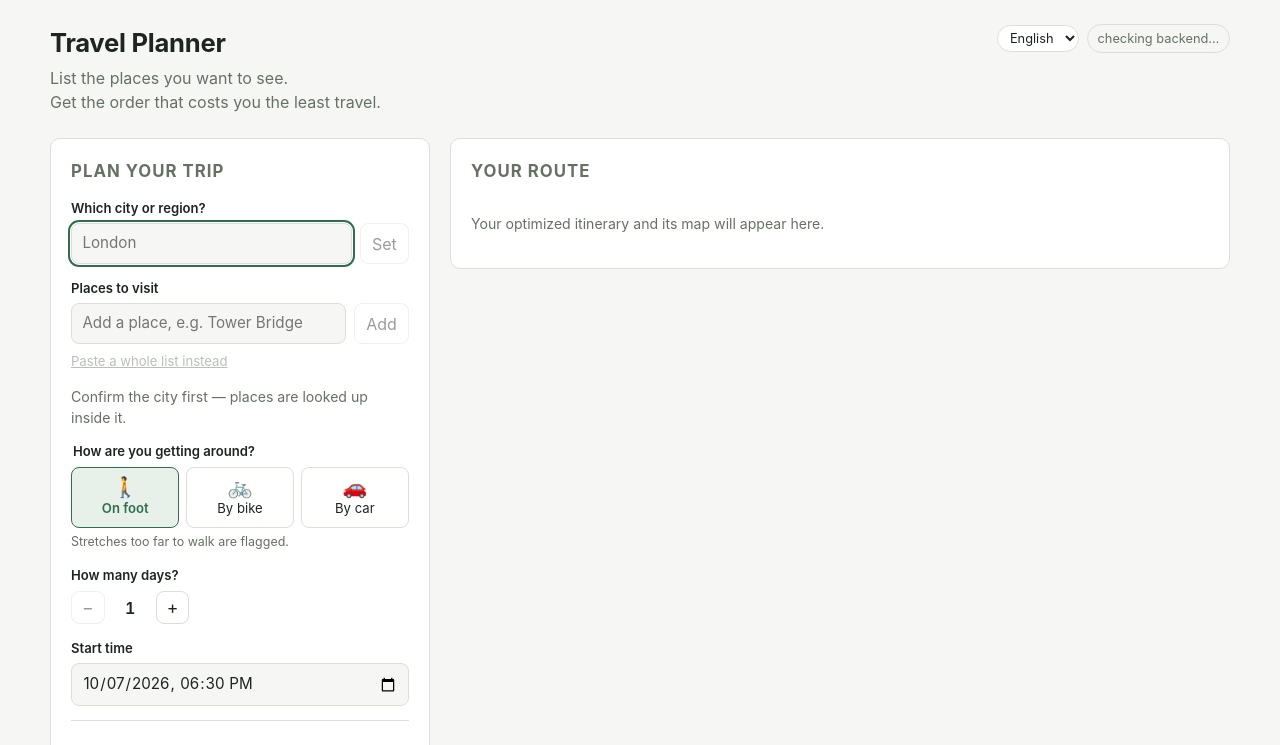
Test case: the batch dialog can be dismissed with Escape
Type "Roma" into the field with placeholder "London" at (211, 244), box [71, 224, 352, 264]
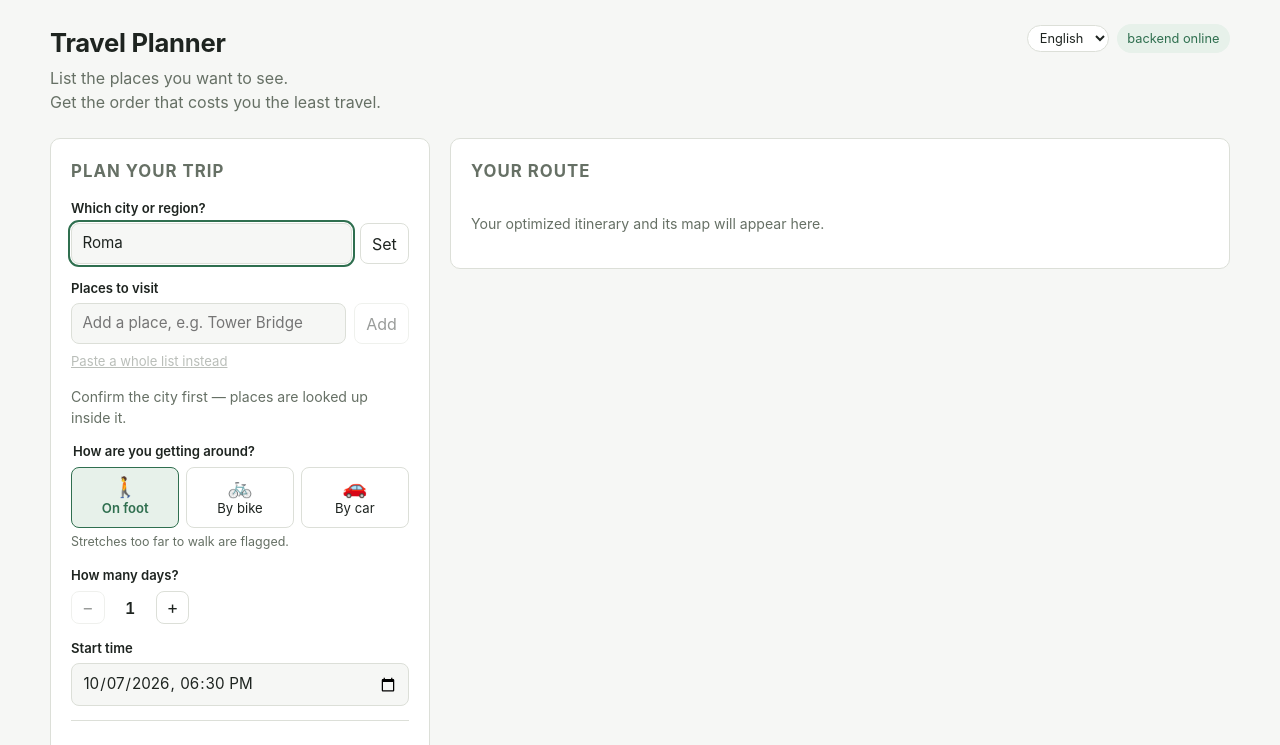
Click the button "Set" at (384, 244), box [360, 224, 409, 264]
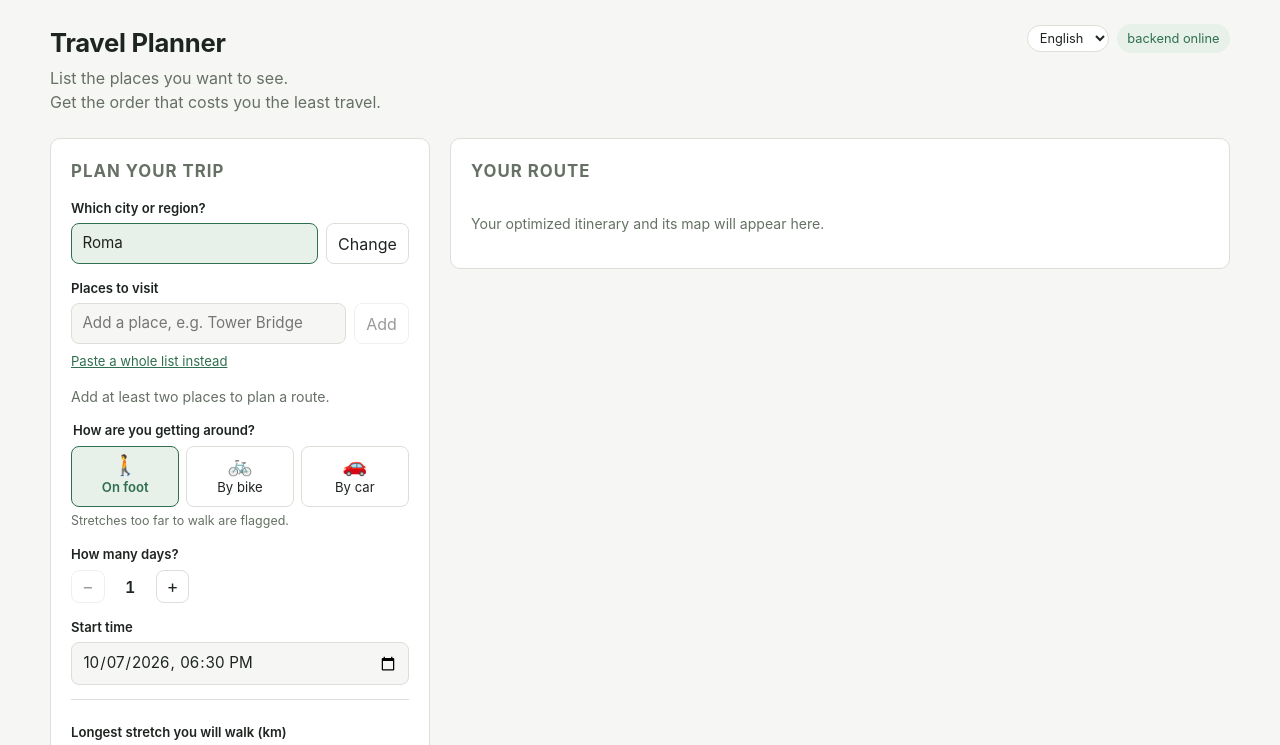
Click the button "Paste a whole list instead" at (149, 362), box [71, 352, 228, 372]
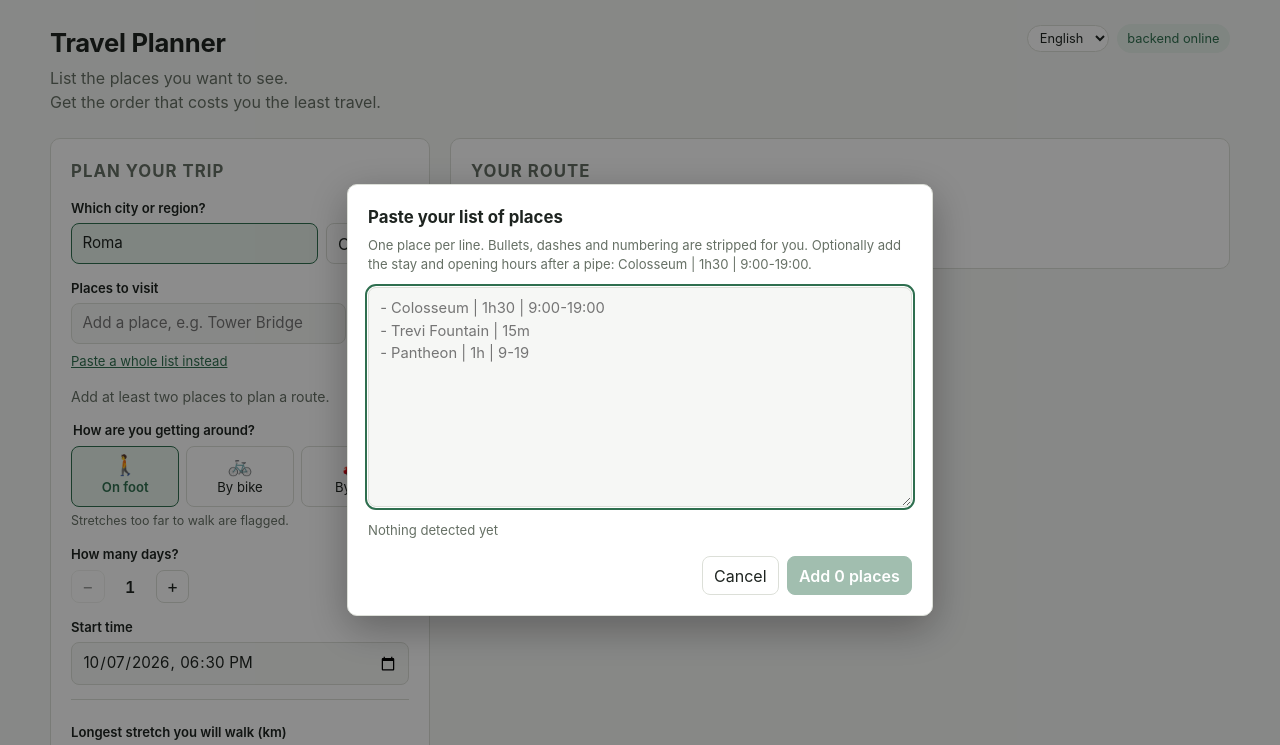
Expected: the dialog is shown, [347, 184, 933, 616]
Press Escape
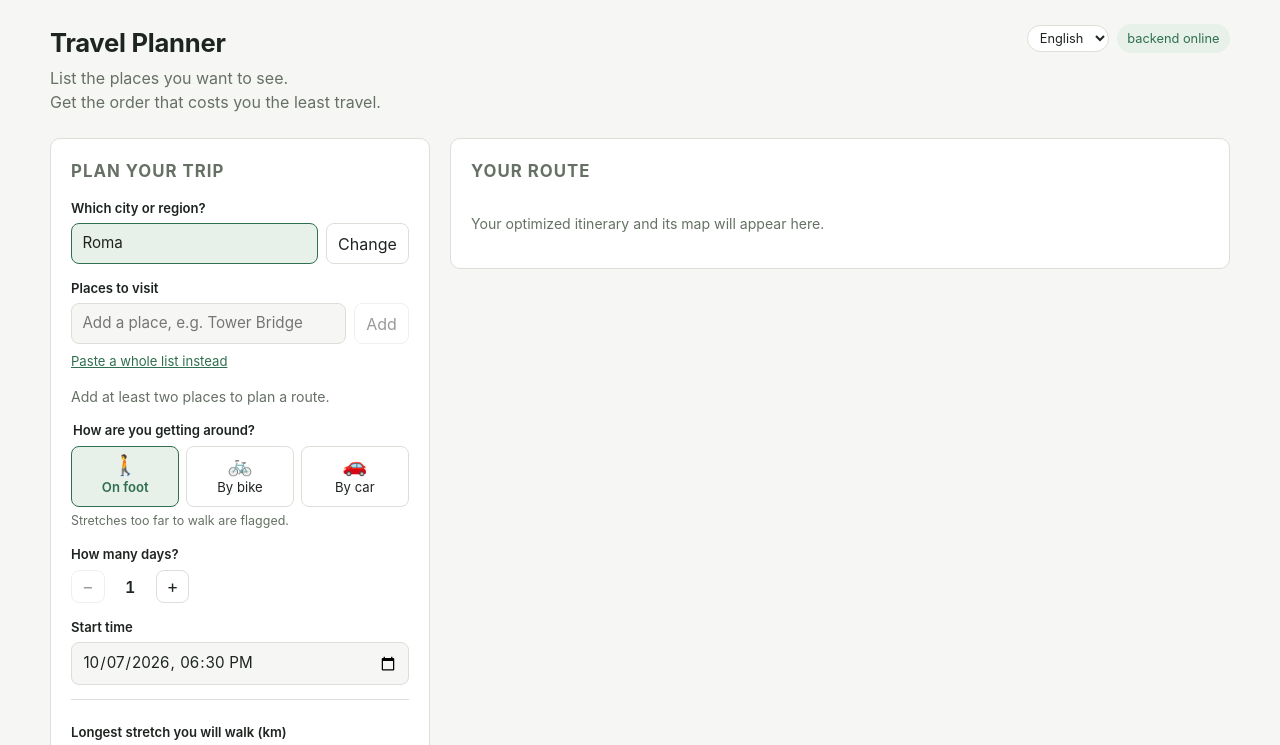
Expected: the dialog is gone
